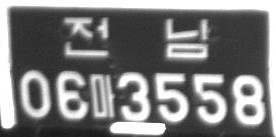0: (18, 69, 51, 118)
3: (117, 71, 151, 122)
5: (155, 71, 189, 123), (193, 72, 227, 124)
6: (56, 69, 88, 120)
8: (233, 72, 266, 126)
마: (88, 72, 117, 118)
전남_D: (63, 16, 210, 59)
